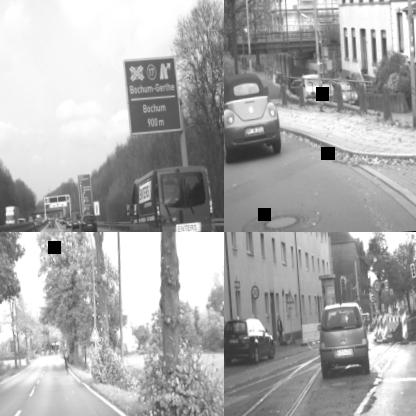DANGER: (284, 288, 294, 304)
bend: (89, 324, 101, 342)
speed limit 30: (251, 284, 260, 300), (372, 278, 382, 292)
